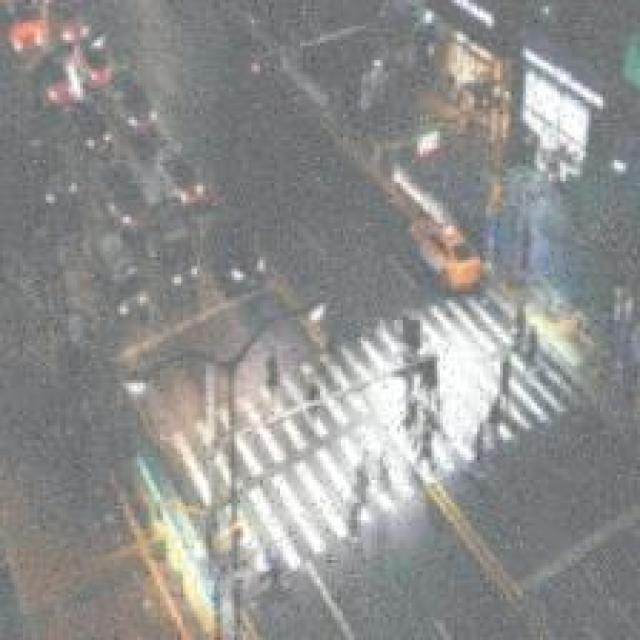zebra: (157, 279, 590, 591)
